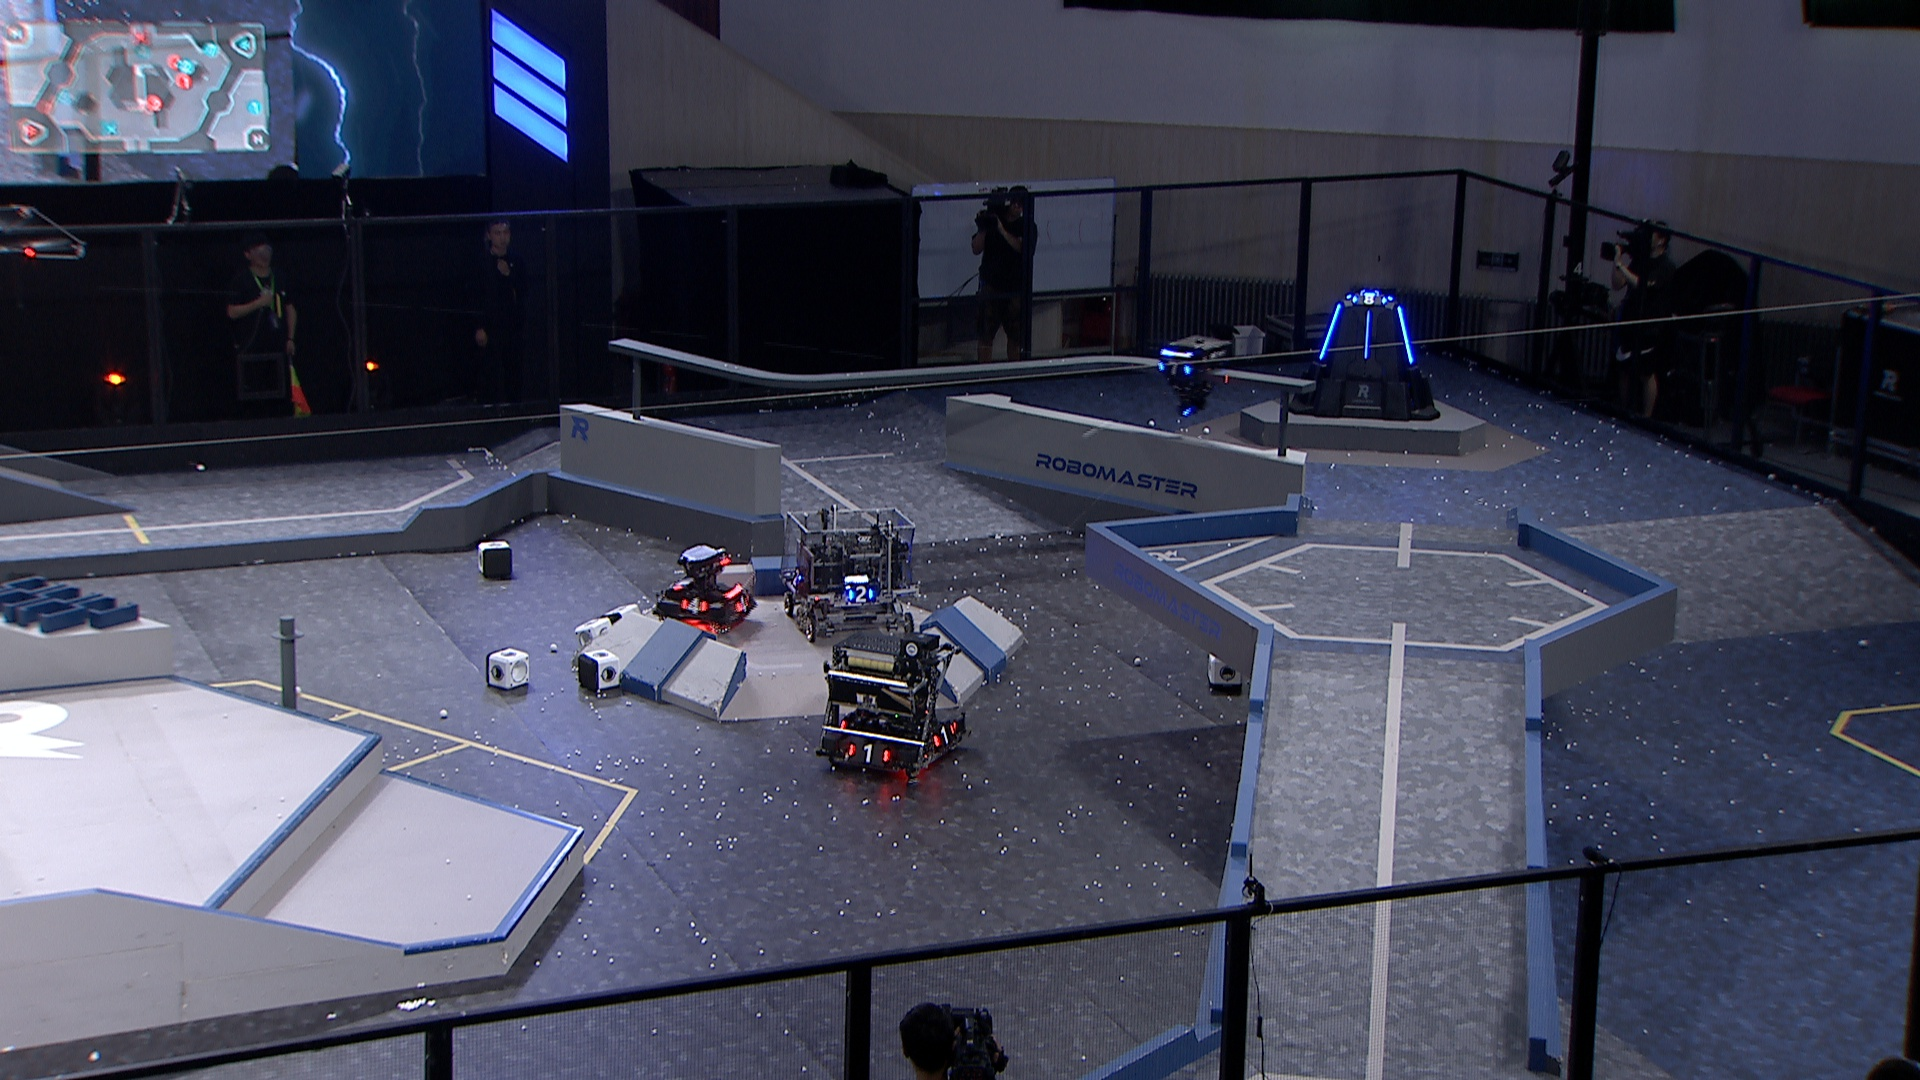armor: (1316, 302, 1344, 361), (1395, 302, 1418, 367), (845, 740, 893, 764), (1155, 360, 1195, 378), (930, 723, 955, 752), (1349, 291, 1390, 309), (1364, 310, 1375, 363), (845, 585, 877, 605), (679, 597, 708, 616), (731, 593, 750, 613), (789, 566, 804, 588), (669, 576, 692, 591)
base: (1283, 290, 1443, 422)
car: (818, 626, 968, 789), (781, 505, 916, 642), (646, 546, 760, 636)
watcher: (1153, 332, 1230, 414)
